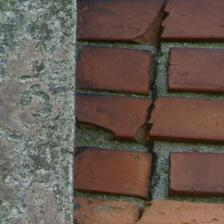Crack: (65, 3, 110, 212)
